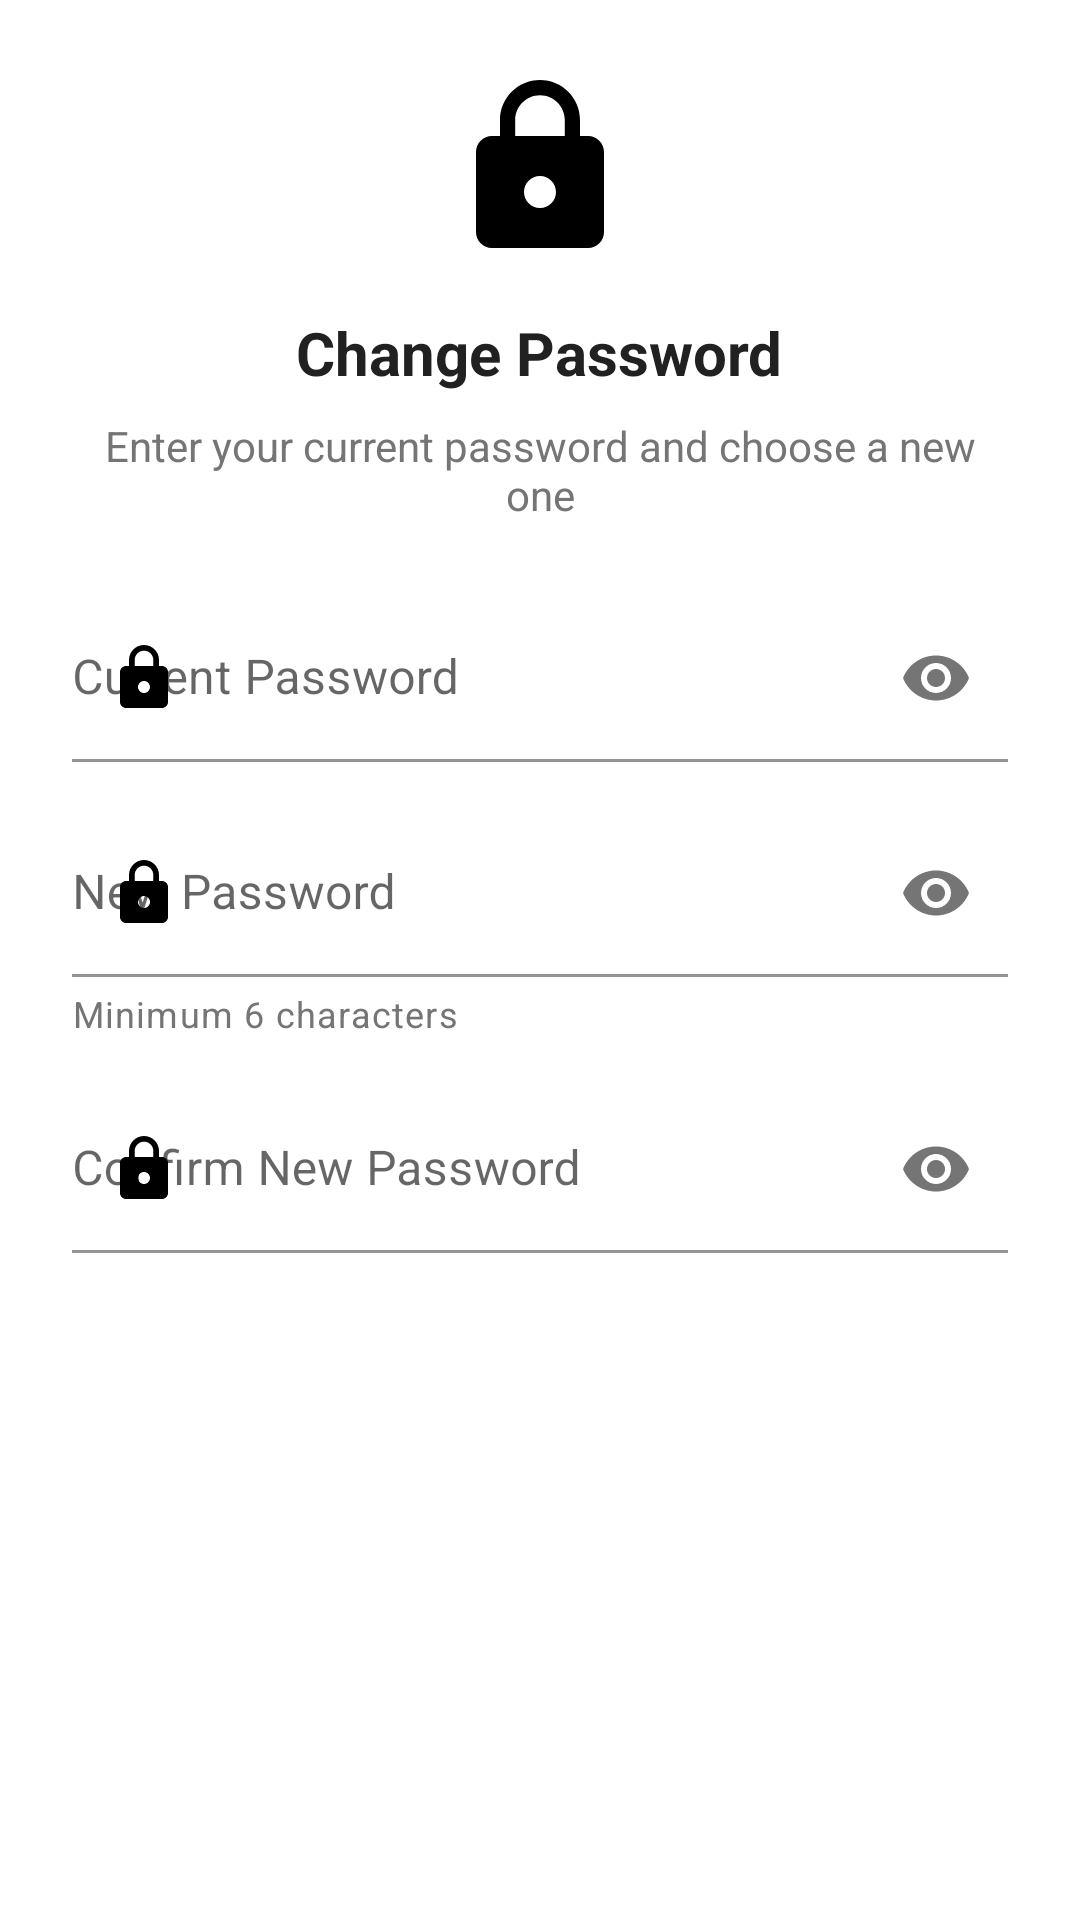

Icon click points for this 1080×1920 phone screenshot, format [x,y]:
lock: [540,164]
